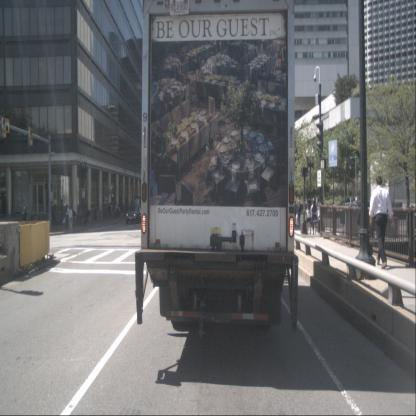human-pedestrian-adult: (369, 176, 395, 269), (311, 200, 317, 234), (22, 206, 28, 234), (65, 204, 71, 231), (306, 204, 311, 235), (311, 200, 316, 231), (318, 202, 323, 233), (51, 205, 56, 226), (296, 200, 300, 226), (69, 205, 73, 230), (107, 202, 112, 220), (294, 199, 297, 226), (114, 204, 118, 220), (3, 196, 6, 216), (117, 204, 120, 220), (113, 204, 116, 218), (115, 203, 117, 217), (318, 194, 320, 206), (316, 197, 318, 207)
vehicle-car: (125, 203, 143, 225)
vehicle-truck: (135, 0, 299, 348)
